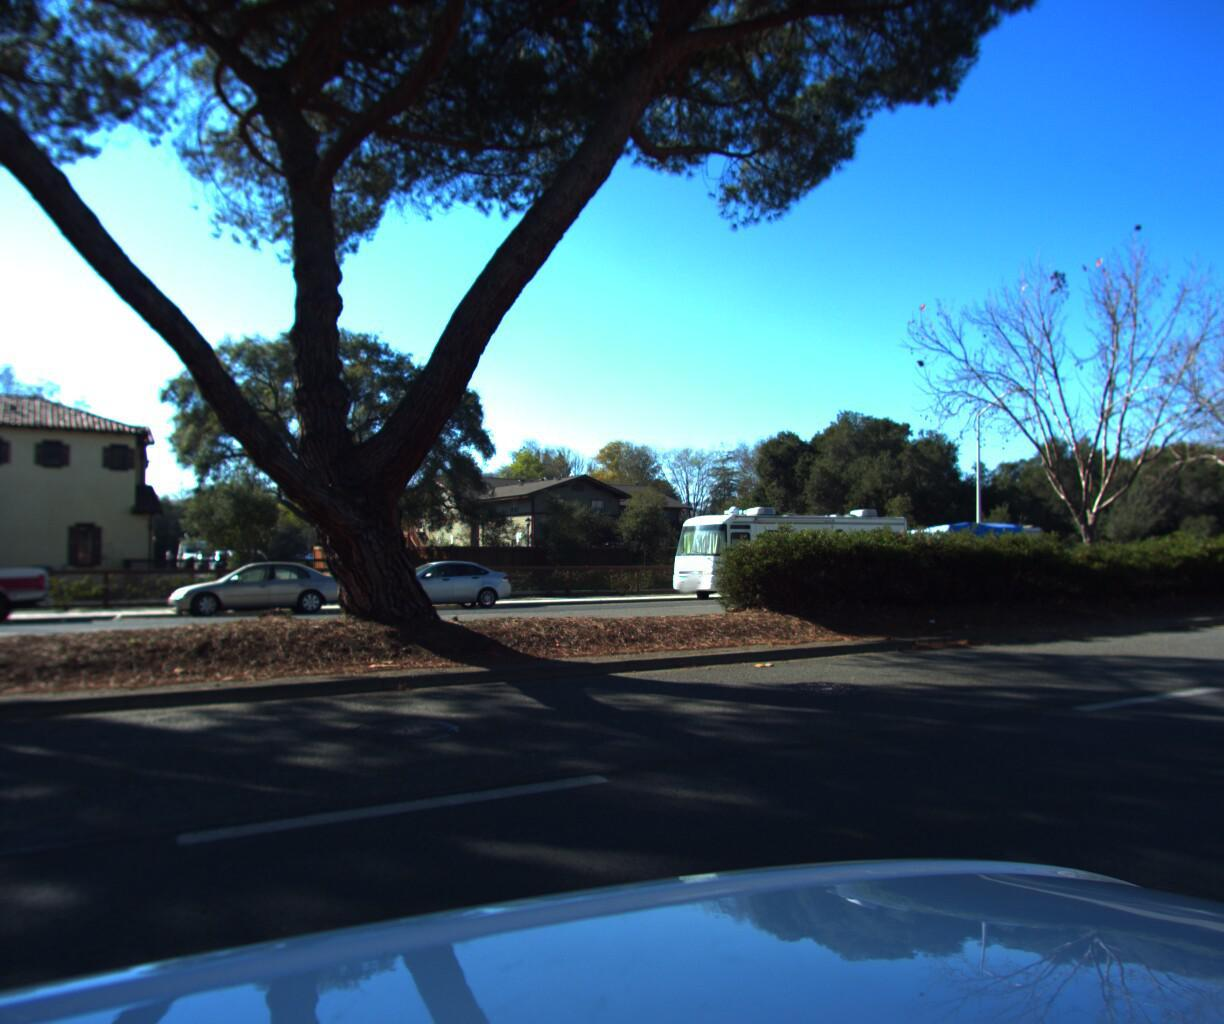car: (163, 553, 351, 617), (352, 553, 518, 611), (0, 525, 67, 633)
other_vehicle: (656, 485, 920, 596), (891, 517, 1050, 598)
